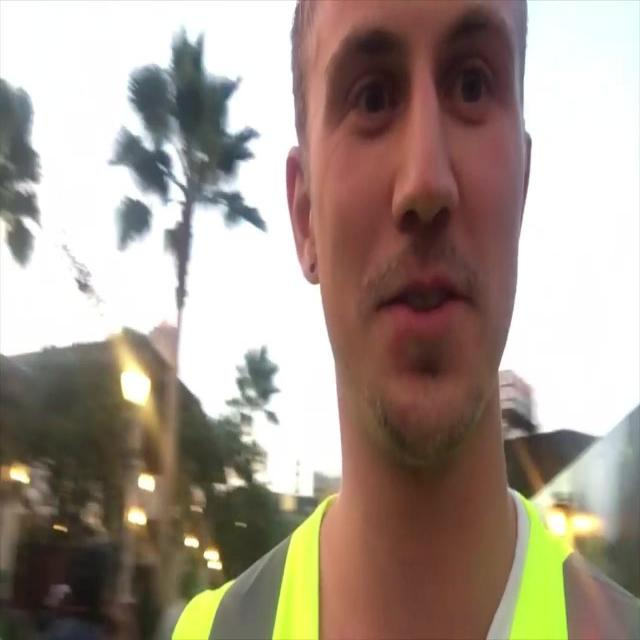Reflective-Jacket: (170, 481, 640, 640)
